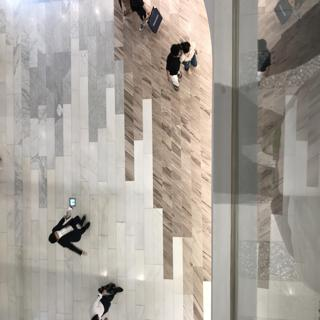person: (45, 211, 93, 259), (160, 41, 180, 91), (178, 37, 200, 78)
